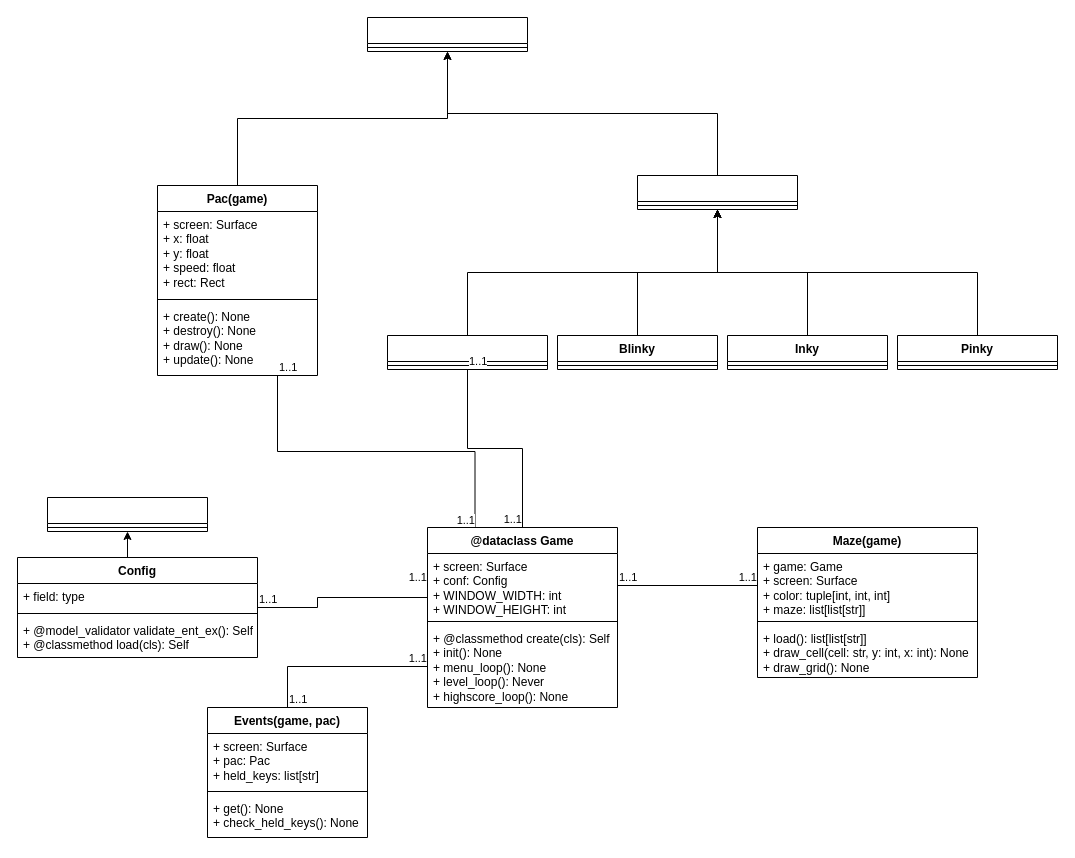
Some shapes in this 1075 by 858 pixel diagram are drawn without their labels. The centre of each missing label's shape, as x and y in pixels:
"Alive" belongs at (x=447, y=34).
"BaseModel" belongs at (x=127, y=514).
"Clyde" belongs at (x=467, y=352).
"Ghosts" belongs at (x=717, y=192).
